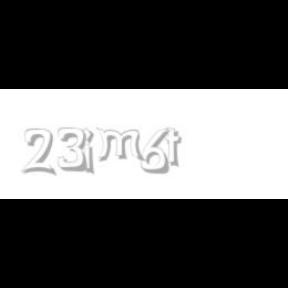2: (21, 128, 55, 176)
3: (57, 128, 88, 172)
6: (140, 128, 170, 176)
i: (82, 128, 98, 176)
m: (95, 128, 147, 162)
t: (164, 128, 186, 168)
